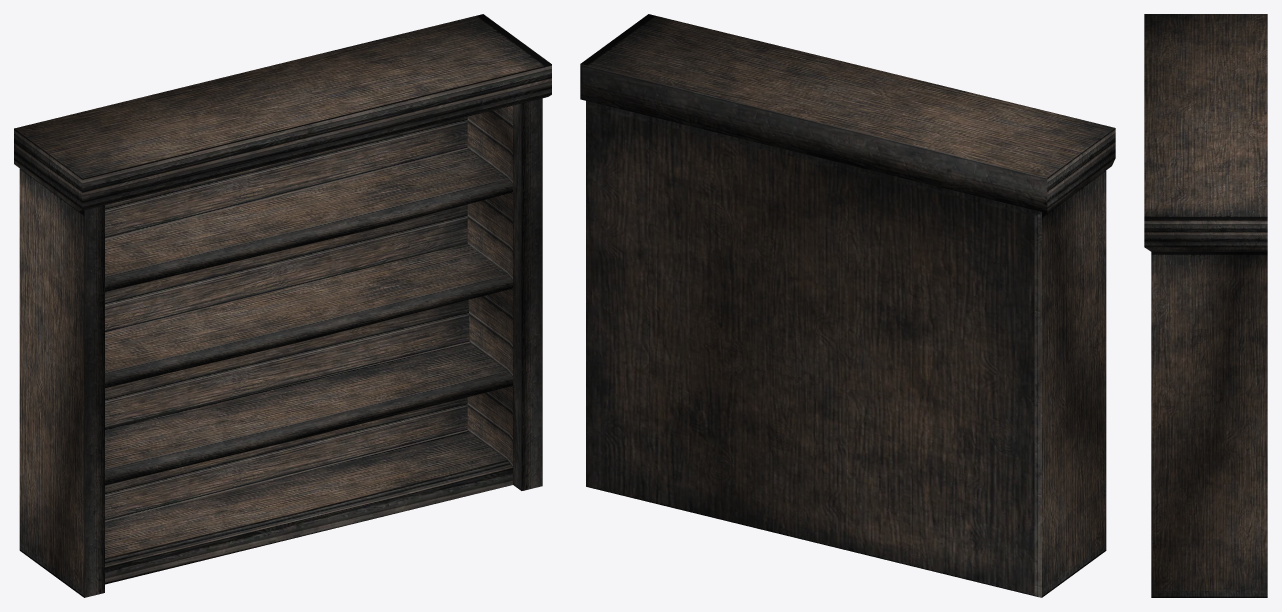
Rendered from GS_SINGLE_OPEN_STORAGE_BLACK_01_KOZA.glb.
3 views of the same model, side by side, from view 1: azimuth 30°, elevation 25°; view 2: azimuth 150°, elevation 25°; view 3: azimuth 270°, elevation 25° (orthographic). The views are drawn at different scales.
Parts seen in each view (by area): view 1: Mesh; view 2: Mesh; view 3: Mesh.
Boxes of the visible parts, left/top/right/bottom form: Mesh: left=14, top=14, right=551, bottom=597; Mesh: left=580, top=14, right=1115, bottom=597; Mesh: left=1144, top=14, right=1267, bottom=597.
Bounding box in the file's own units: 3.15 × 2.72 × 0.7984.
2 materials, 2 textured.
